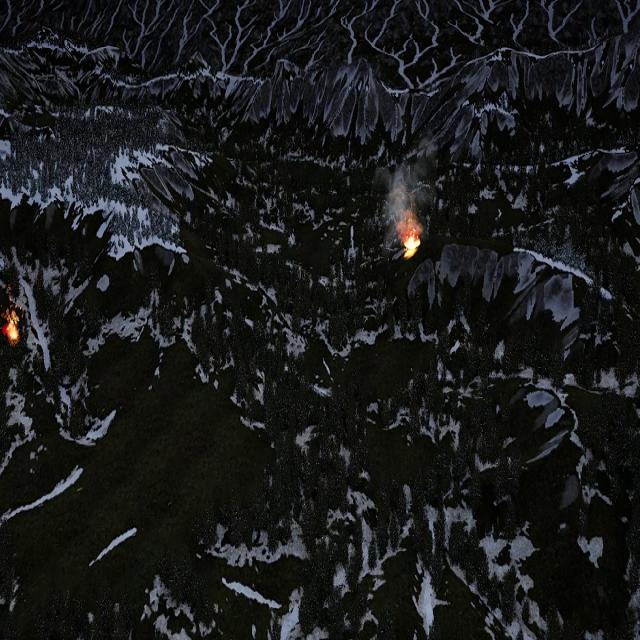fire: (0, 280, 18, 340), (405, 234, 421, 257)
smoke: (373, 134, 441, 249)
